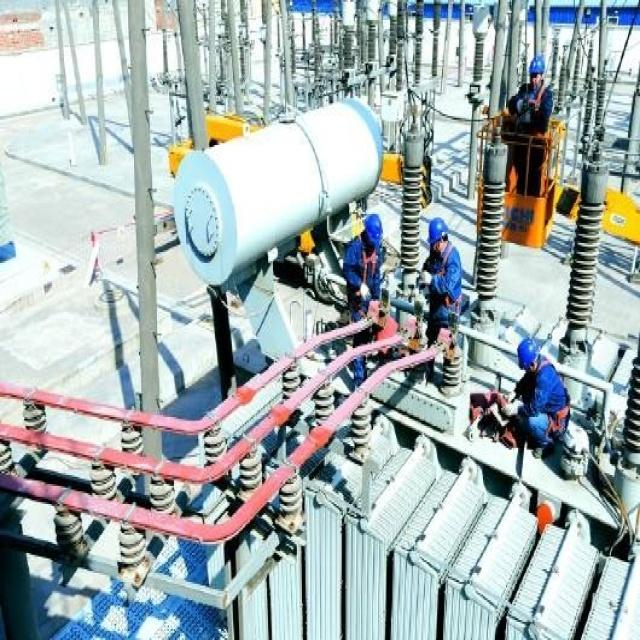helmet: (425, 288, 449, 344), (360, 280, 382, 336), (517, 450, 539, 506), (527, 73, 545, 119)
